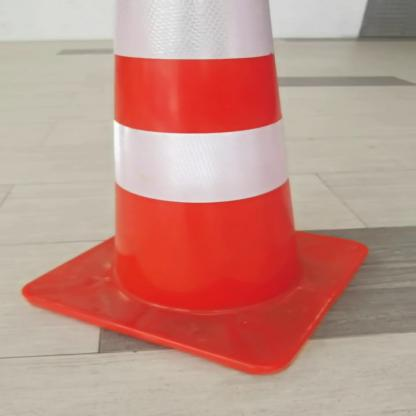cone: (0, 0, 382, 377)
